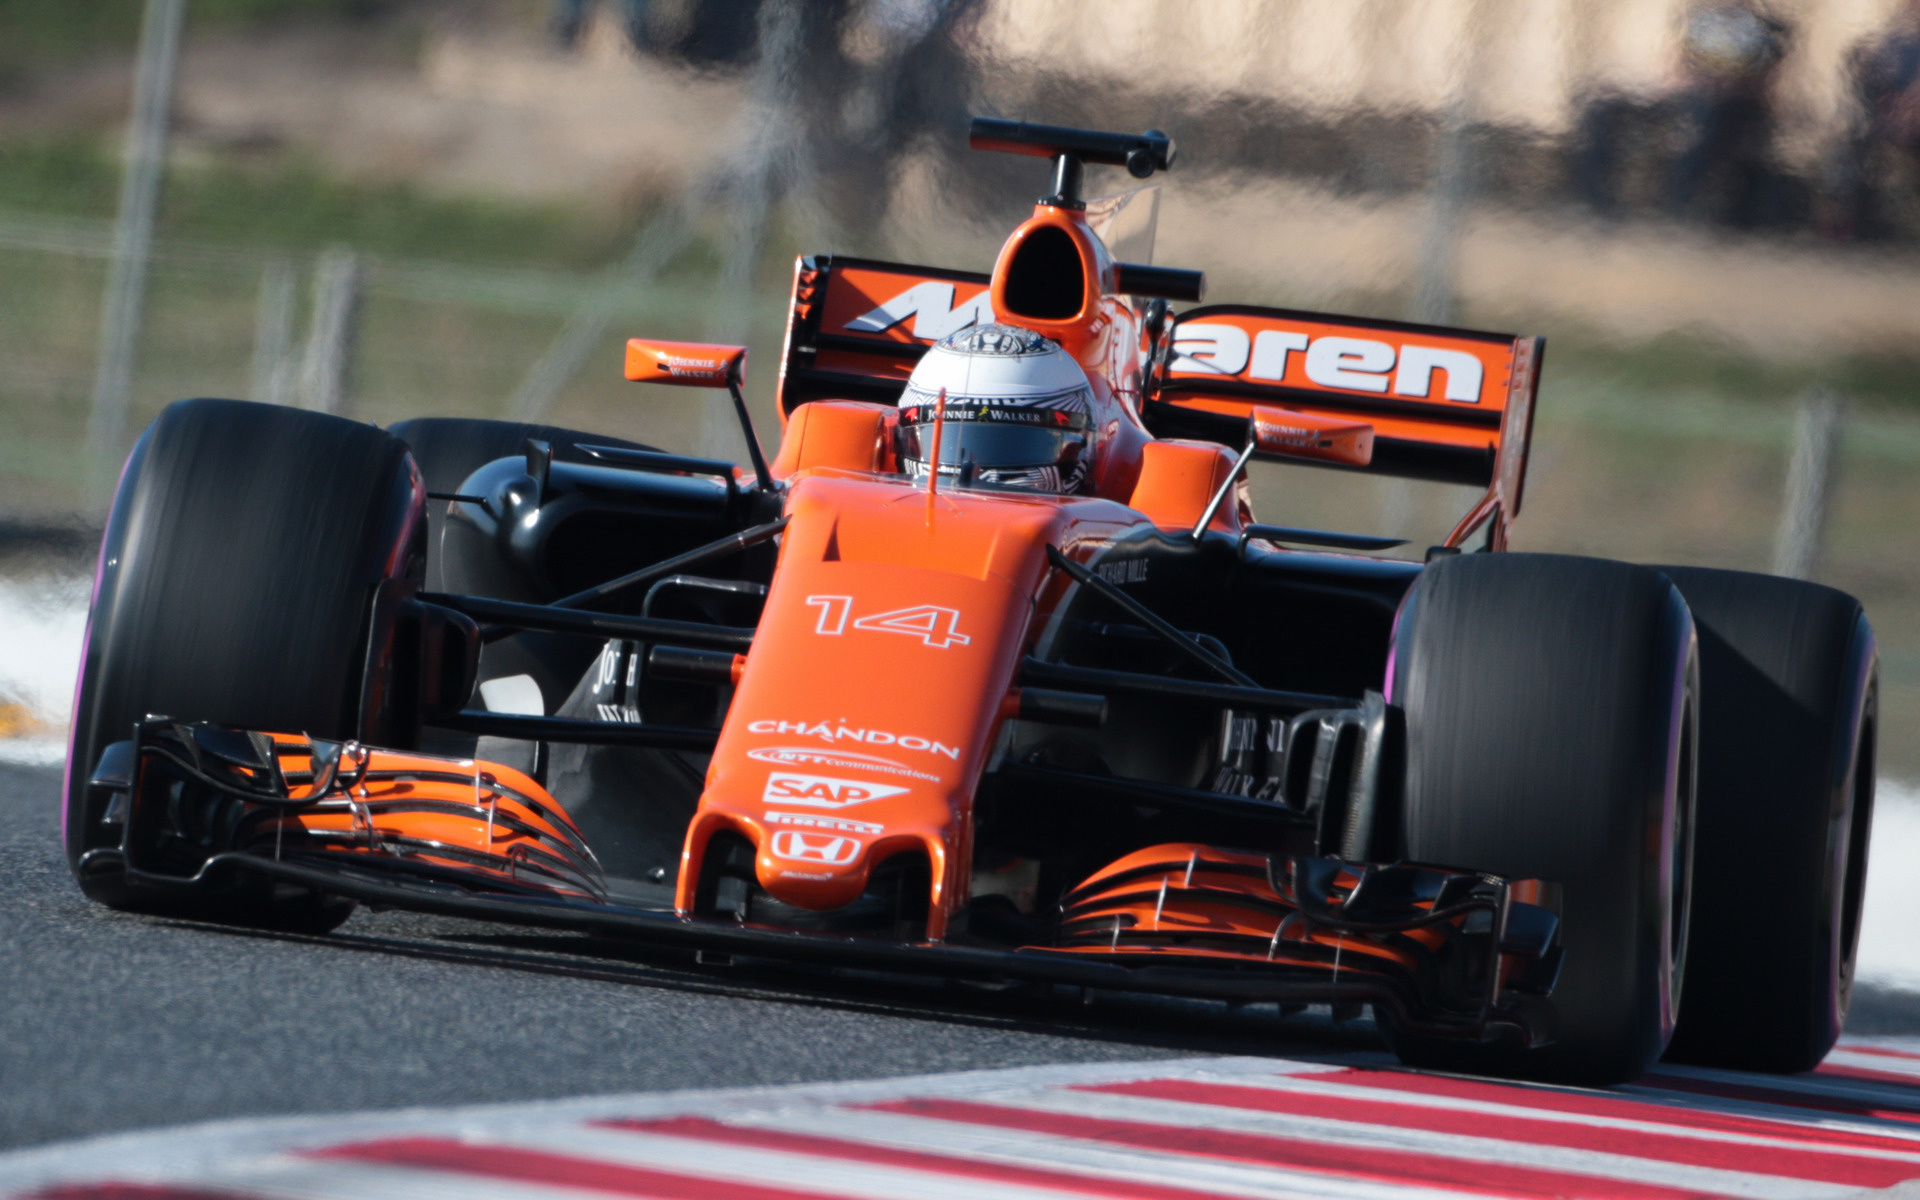F1 Car: (35, 95, 1894, 1116)
